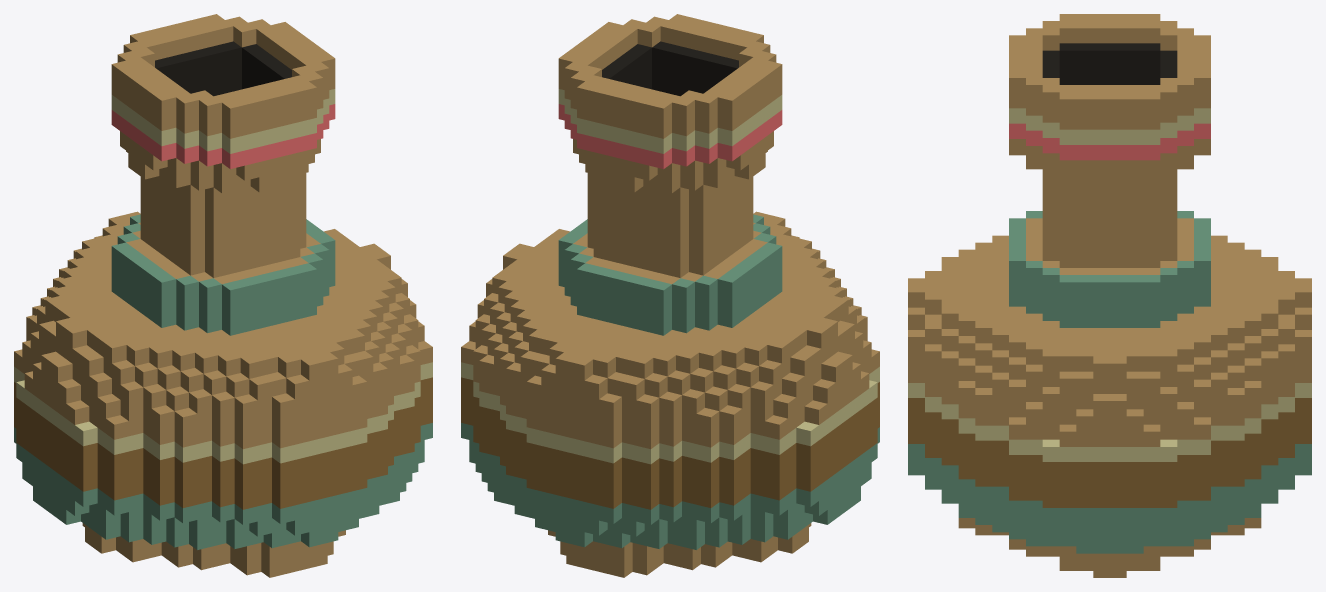
Rendered from Medieval Assets-51-Decoration - Desert - Urn - Variant10.obj.
The picture shows the model from 3 angles, left to right: view 1: azimuth 30°, elevation 25°; view 2: azimuth 150°, elevation 25°; view 3: azimuth 270°, elevation 25°; orthographic projection.
Visible parts, largest first — view 1: Decoration - Desert - Urn - Variant10; view 2: Decoration - Desert - Urn - Variant10; view 3: Decoration - Desert - Urn - Variant10.
Part boxes in pixels (box(x1,y1,x2,y2)): Decoration - Desert - Urn - Variant10: box(14, 14, 432, 577); Decoration - Desert - Urn - Variant10: box(461, 14, 879, 577); Decoration - Desert - Urn - Variant10: box(908, 14, 1311, 577).
Bounding box in the file's own units: 2.4 × 3 × 2.4.
Materials: 1 (1 with a texture image).
